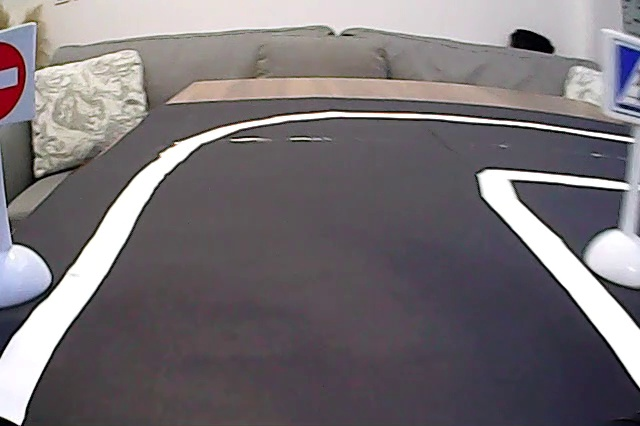do not enter: (1, 37, 30, 128)
